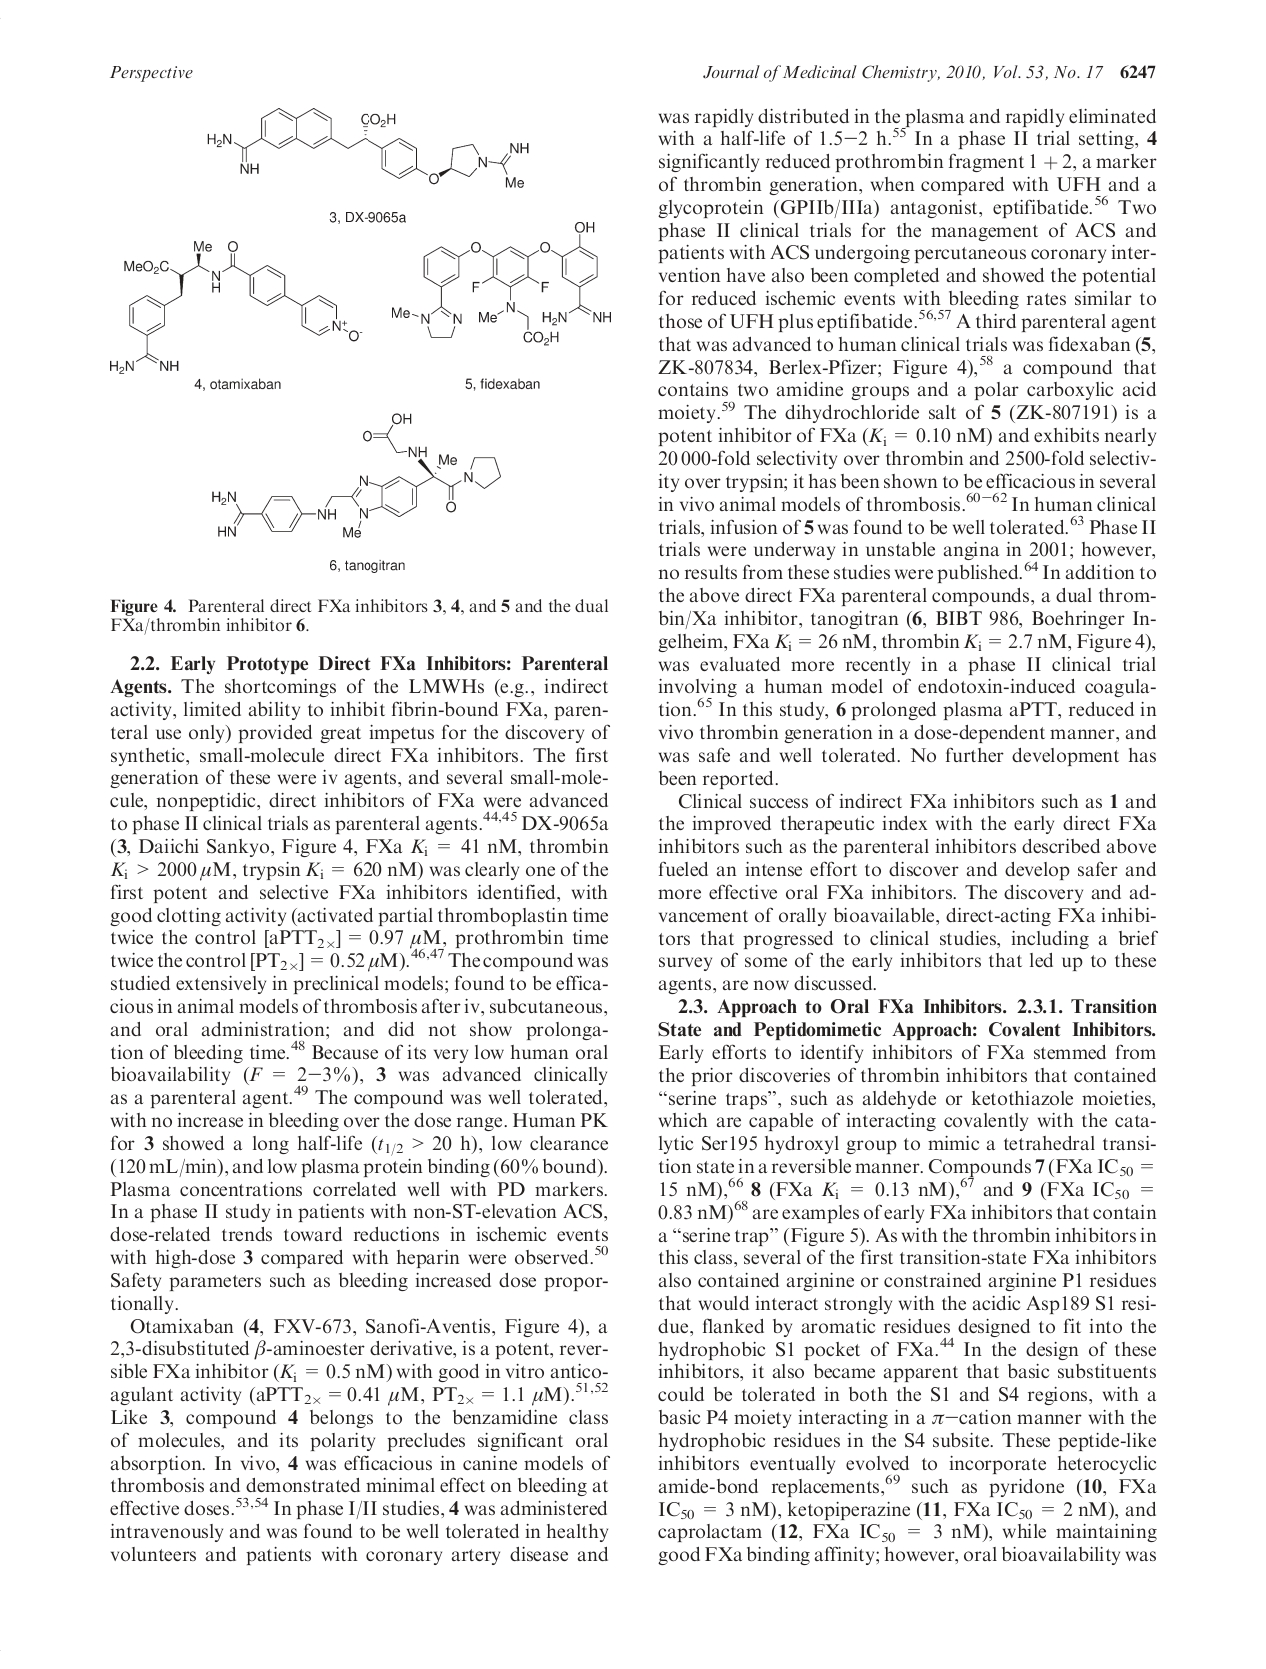exist_molecular: (207, 406, 513, 545), (97, 231, 364, 376), (197, 88, 537, 198), (390, 219, 618, 351)
